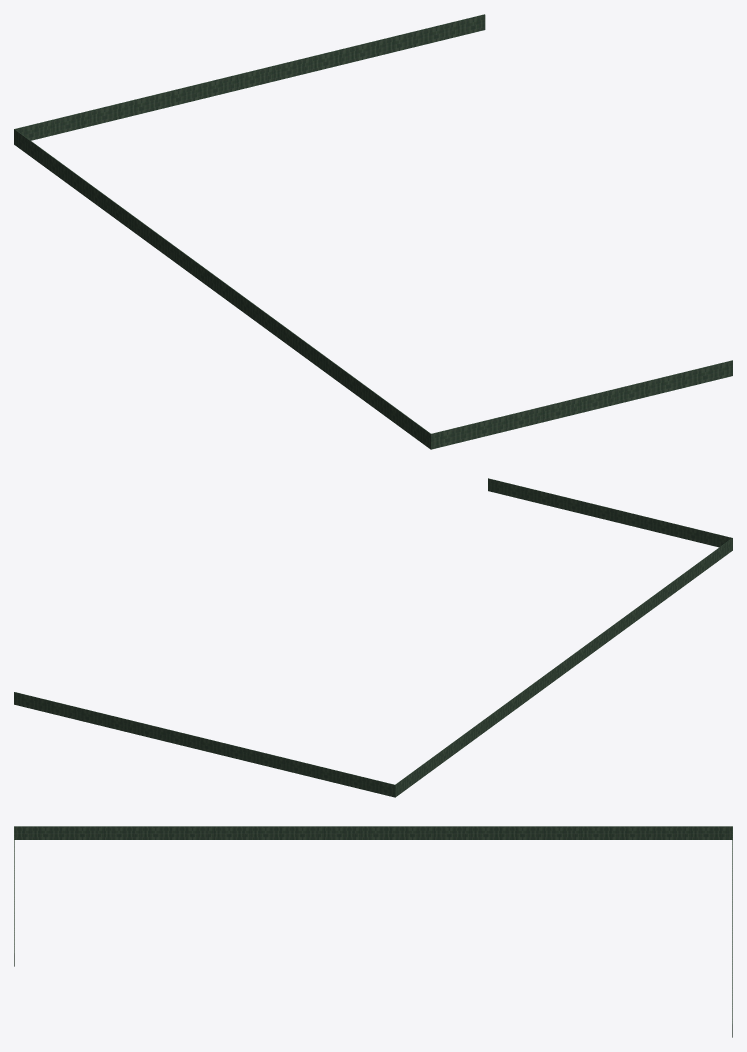
The model's file is BP_PassionVerde.glb.
3 views of the same model, one above another, from view 1: azimuth 30°, elevation 25°; view 2: azimuth 150°, elevation 25°; view 3: azimuth 270°, elevation 25° (orthographic). The views are drawn at different scales.
Parts seen in each view (by area): view 1: BP_Passion Verde; view 2: BP_Passion Verde; view 3: BP_Passion Verde.
Part boxes in pixels (<box>): BP_Passion Verde: <box>14,14,732,449</box>; BP_Passion Verde: <box>14,478,732,797</box>; BP_Passion Verde: <box>14,826,732,1037</box>.
Size of the model in its own units: 6.39 by 0.2 by 9.8.
Materials: 1 (1 with a texture image).
